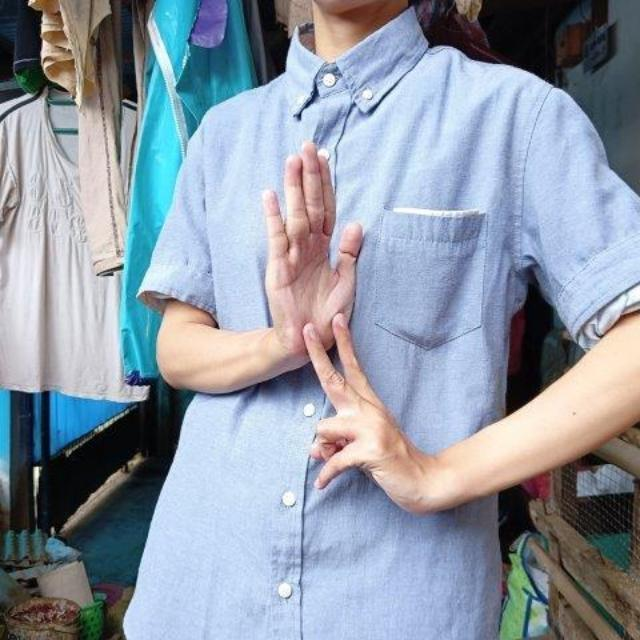N: (258, 138, 374, 402)
